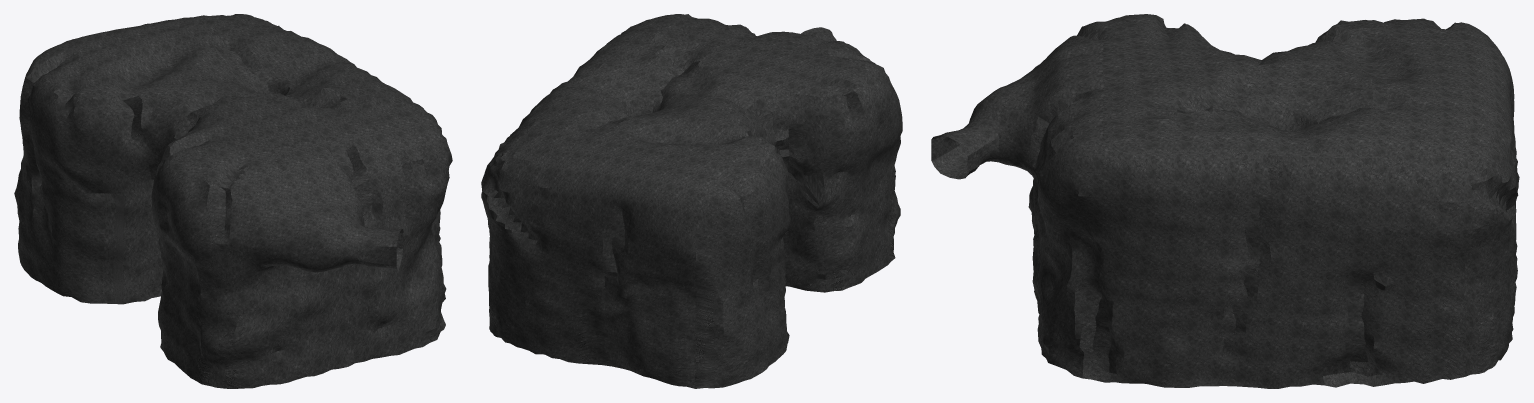
The model's file is LargeCaveRoom1Bottomless.glb.
3 views of the same model, side by side, from view 1: azimuth 30°, elevation 25°; view 2: azimuth 150°, elevation 25°; view 3: azimuth 270°, elevation 25° (orthographic). The views are drawn at different scales.
Visible parts, largest first — view 1: Cube.016; view 2: Cube.016; view 3: Cube.016.
Boxes of the visible parts, x1=… form: Cube.016: x1=14, y1=14, x2=452, y2=388; Cube.016: x1=481, y1=14, x2=902, y2=388; Cube.016: x1=931, y1=14, x2=1519, y2=388.
Bounding box in the file's own units: 53.95 × 40.5 × 85.07.
1 material, 1 textured.
